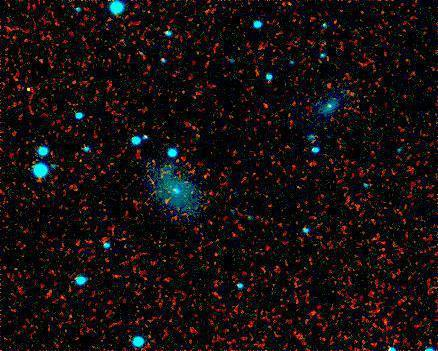star: (5, 79, 35, 109)
